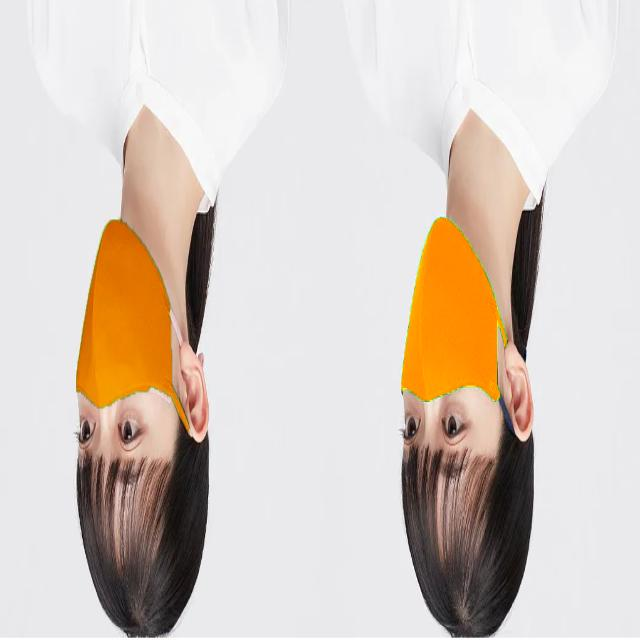Mask: (67, 208, 187, 420), (396, 208, 511, 426)
